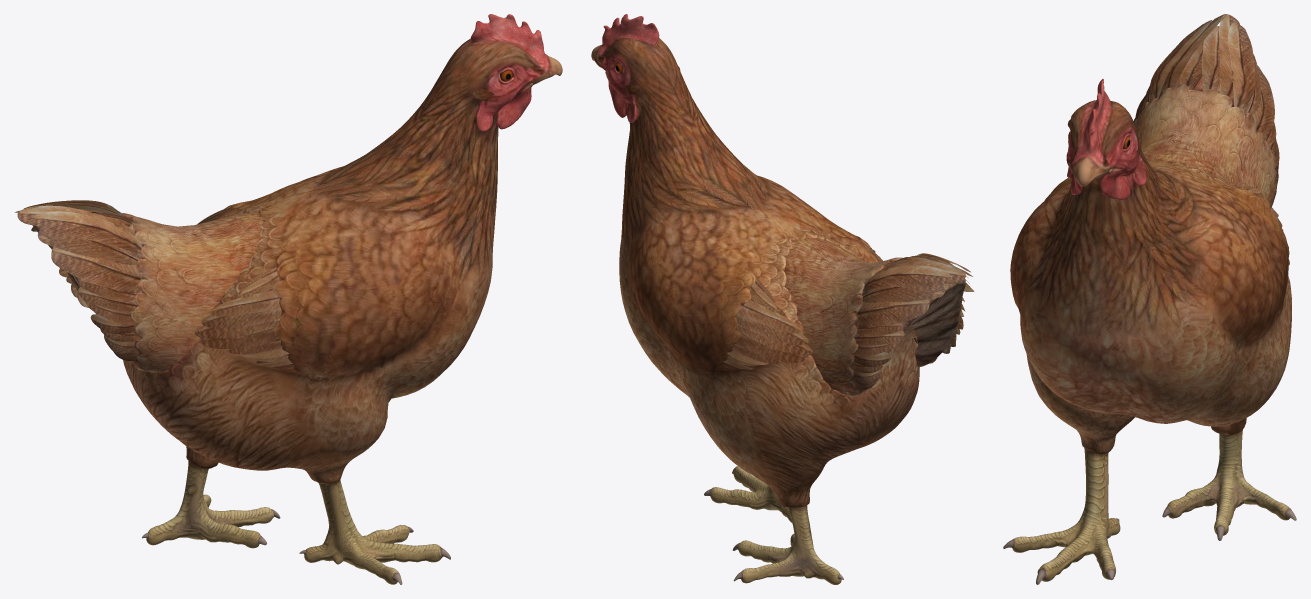
Rendered from chicken-transformed.glb.
The picture shows the model from 3 angles, left to right: view 1: azimuth 30°, elevation 25°; view 2: azimuth 150°, elevation 25°; view 3: azimuth 270°, elevation 25°; orthographic projection. The views are drawn at different scales.
Parts seen in each view (by area): view 1: Object_5; view 2: Object_5; view 3: Object_5.
Part boxes in pixels (left/top/right/bottom): Object_5: left=15, top=14, right=562, bottom=584; Object_5: left=591, top=14, right=974, bottom=584; Object_5: left=1003, top=14, right=1296, bottom=584.
Bounding box in the file's own units: 1.05 × 1.07 × 0.5191.
1 material, 1 textured.
